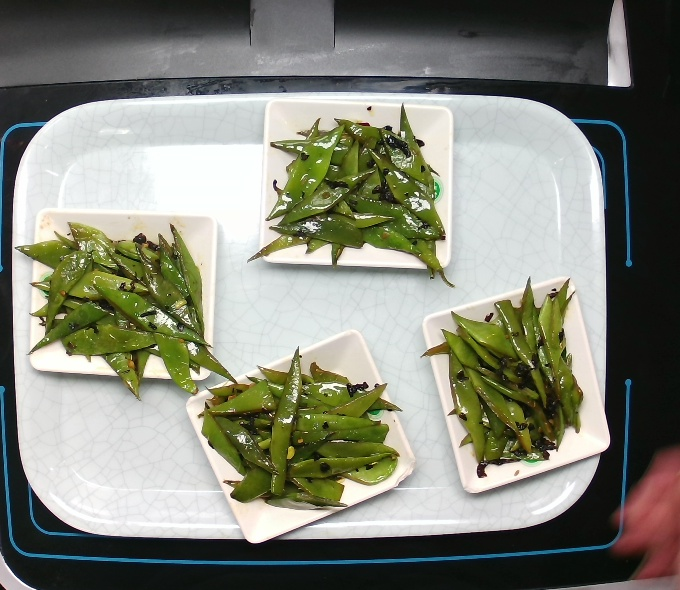wcq-ChaoSiJiDou: (10, 219, 241, 404), (244, 100, 463, 295), (416, 271, 591, 482), (192, 343, 410, 512)
